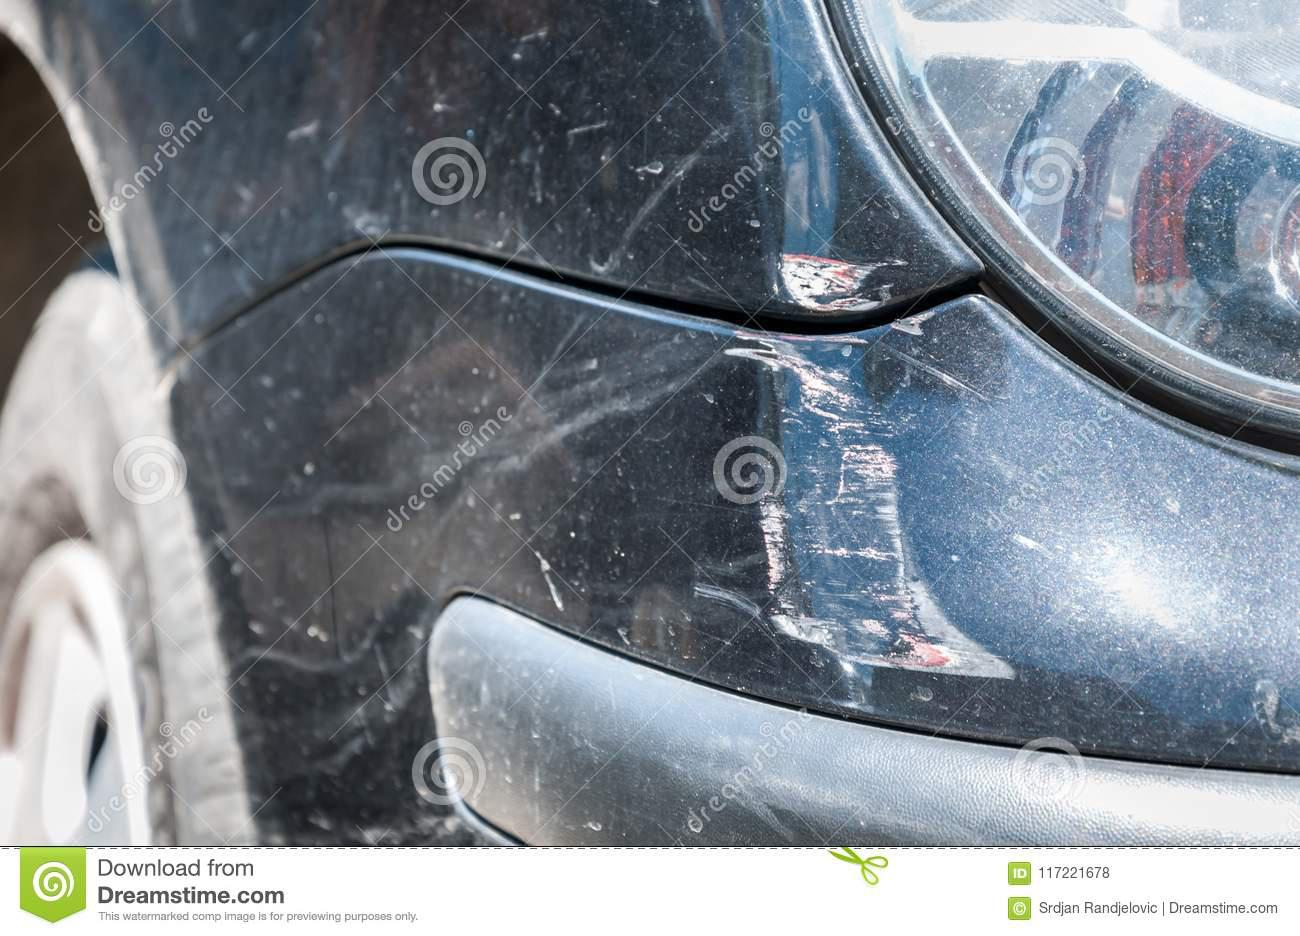front-bumper-dent: (130, 228, 1299, 852)
